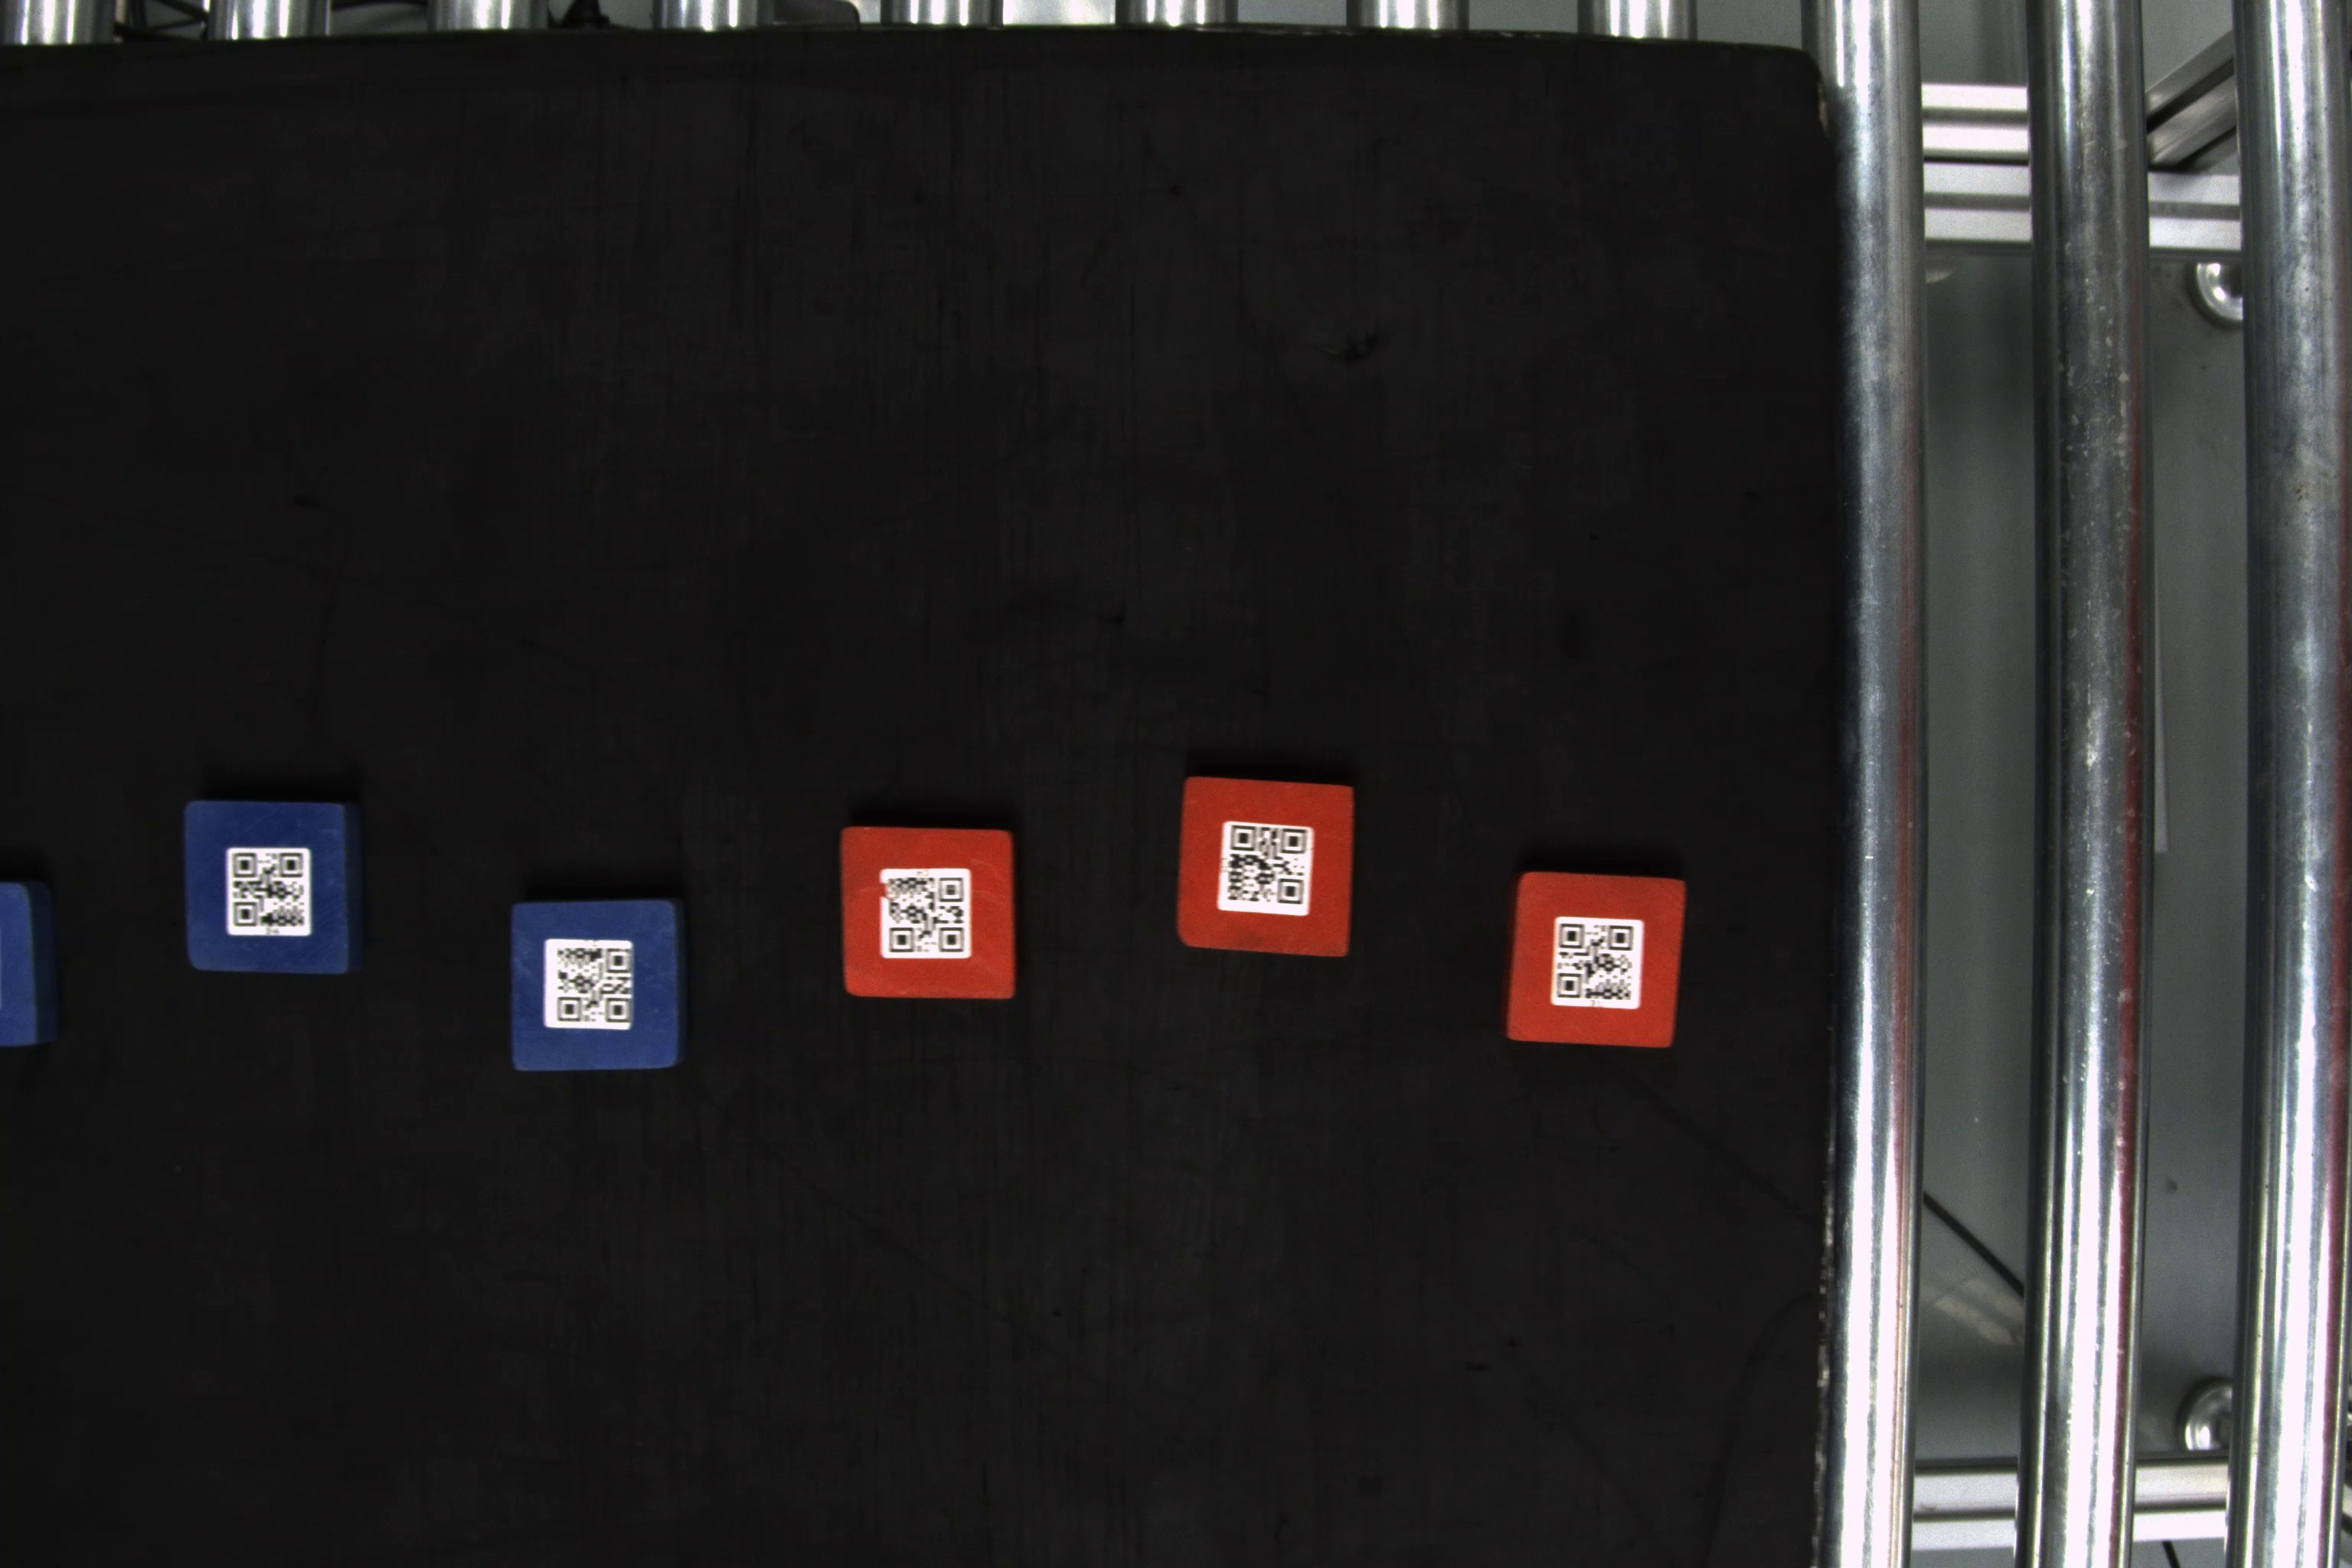wood: (1172, 766, 1361, 966), (173, 794, 366, 987), (833, 817, 1029, 1006), (1507, 864, 1692, 1055), (506, 894, 686, 1073)
